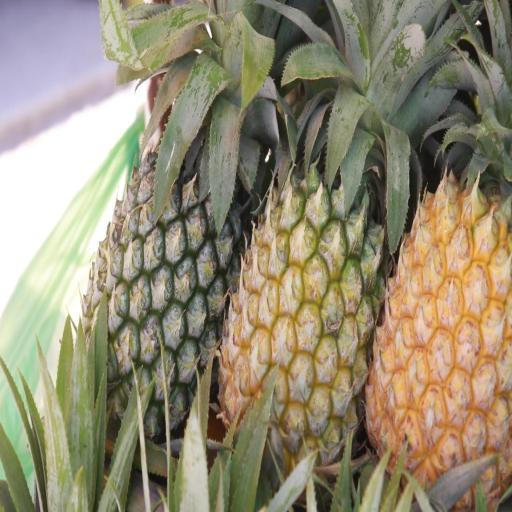------------------------------: (216, 43, 386, 499)
Pineapple - v8 v1: (361, 32, 512, 512)
